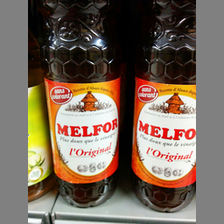vinegar: (38, 1, 125, 210), (130, 1, 196, 215)
